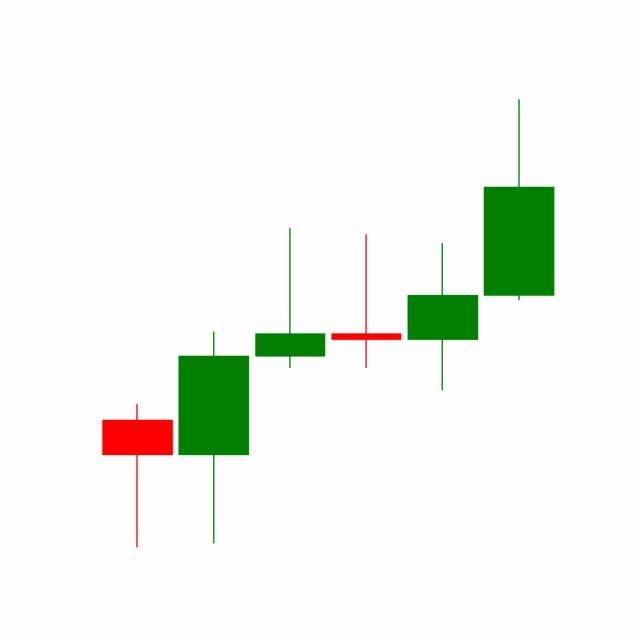Spinning Top: (404, 243, 482, 394)
